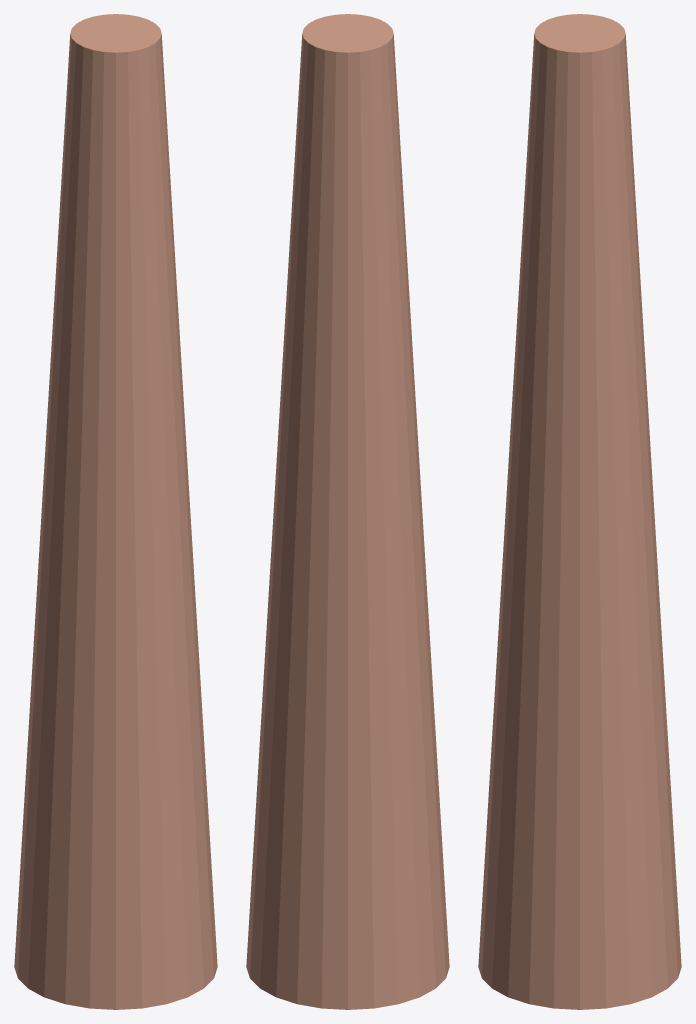
Rendered from place-kalyan-minaret-bukhara.glb.
3 views of the same model, side by side, from view 1: azimuth 30°, elevation 25°; view 2: azimuth 150°, elevation 25°; view 3: azimuth 270°, elevation 25° (orthographic).
Parts seen in each view (by area): view 1: place-kalyan-minaret-bukhara; view 2: place-kalyan-minaret-bukhara; view 3: place-kalyan-minaret-bukhara.
Boxes of the visible parts, box(x1,y1,x2,y2) form: place-kalyan-minaret-bukhara: box(14, 14, 217, 1009); place-kalyan-minaret-bukhara: box(246, 14, 449, 1009); place-kalyan-minaret-bukhara: box(478, 14, 681, 1009).
Bounding box in the file's own units: 9 × 45.6 × 9.
